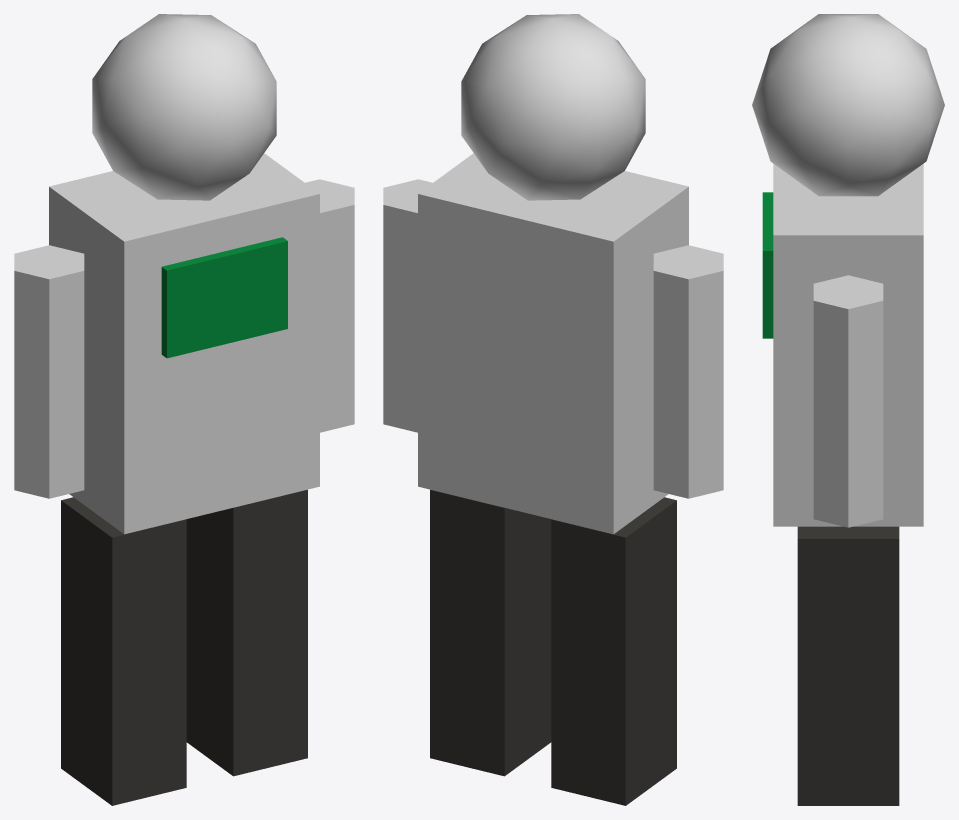
File: incident_operator.glb
3 renders of one model, left to right at view 1: azimuth 30°, elevation 25°; view 2: azimuth 150°, elevation 25°; view 3: azimuth 270°, elevation 25°, orthographic.
Visible parts, largest first — view 1: torso_white, leg_ink, head_white, arm_white, uniform_green; view 2: torso_white, leg_ink, head_white, arm_white; view 3: torso_white, leg_ink, head_white, arm_white, uniform_green.
Boxes of the visible parts, box(x1,y1,x2,y2) form: torso_white: box(49, 153, 319, 534); leg_ink: box(61, 489, 307, 805); head_white: box(92, 14, 276, 200); arm_white: box(14, 179, 354, 498); uniform_green: box(161, 237, 287, 358); torso_white: box(418, 153, 688, 534); leg_ink: box(430, 489, 676, 805); head_white: box(461, 14, 645, 200); arm_white: box(383, 179, 723, 498); torso_white: box(773, 164, 923, 526); leg_ink: box(797, 526, 899, 805); head_white: box(752, 14, 944, 196); arm_white: box(813, 275, 883, 527); uniform_green: box(762, 192, 773, 338).
Size of the model in its own units: 0.73 by 1.52 by 0.36.
